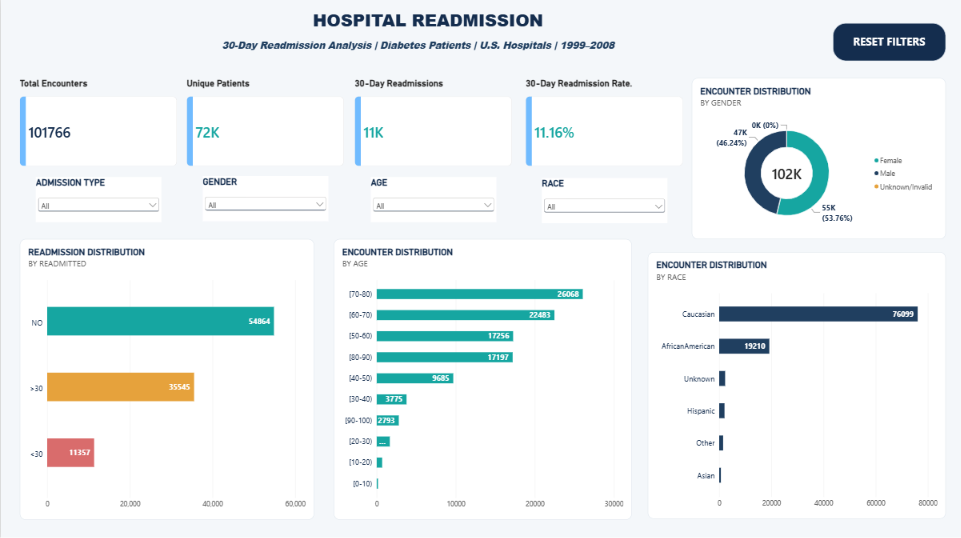

The page's visual inventory and layout, read from the dashboard file:
{"tool":"powerbi","page":{"name":"01. Executive Overview","canvas":[1920,1080],"ordinal":0},"visuals":[{"type":"textbox","title":"HOSPITAL READMISSION ANALYTICS","box":[624,16,670,60],"z":0},{"type":"textbox","title":"30-Day Readmission Analysis | Diabetes Patients | U.S. Hospitals | 1999–2008","box":[442,76,852,24],"z":1000},{"type":"cardVisual","title":"Total Encounters","fields":{"Data":["Measure.Total Encounters"]},"box":[38,156,314,176],"z":2000},{"type":"cardVisual","title":"Unique Patients","fields":{"Data":["Measure.Unique Patients"]},"box":[372,156,314,176],"z":3000},{"type":"cardVisual","title":"30-Day Readmission Rate.","fields":{"Data":["Measure.30-Day Readmission Rate"]},"box":[1050,156,314,176],"z":4000},{"type":"cardVisual","title":"30-Day Readmissions","fields":{"Data":["Measure.30-Day Readmissions"]},"box":[708,156,314,176],"z":5000},{"type":"clusteredBarChart","title":"READMISSION DISTRIBUTION","fields":{"Category":["Fact_Encounters.readmitted"],"Y":["CountNonNull(Fact_Encounters.encounter_id)"]},"box":[38.7,478.5,589,561.4],"z":6000},{"type":"clusteredBarChart","title":"ENCOUNTER DISTRIBUTION ","fields":{"Category":["Fact_Encounters.age"],"Y":["Measure.Total Encounters"]},"box":[666.3,478.5,596.3,561.4],"z":7000},{"type":"donutChart","title":"ENCOUNTER DISTRIBUTION ","fields":{"Category":["Fact_Encounters.gender"],"Y":["Measure.Total Encounters"]},"box":[1382,156,508,322],"z":8000},{"type":"clusteredBarChart","title":"ENCOUNTER DISTRIBUTION","fields":{"Category":["Fact_Encounters.race"],"Y":["Measure.Total Encounters"]},"box":[1293.9,504.3,596.3,533.7],"z":9000},{"type":"slicer","title":"ADMISSION TYPE","fields":{"Values":["Dim_Admission_Type.description"]},"box":[70,354,251.4,90],"z":10000},{"type":"slicer","title":"GENDER","fields":{"Values":["Fact_Encounters.gender"]},"box":[404,352,251.4,90],"z":11000},{"type":"slicer","title":"AGE","fields":{"Values":["Fact_Encounters.age"]},"box":[740,354,251.4,90],"z":12000},{"type":"slicer","title":"RACE","fields":{"Values":["Fact_Encounters.race"]},"box":[1082,356,251.4,90],"z":13000},{"type":"actionButton","title":"RESET FILTERS","box":[1664,46,226,76],"z":14000}]}

Visuals, with their boxes in screenshot pixels (x1, y1, x2, y2), scaled from the page's 1920x1080 canvas onto the 961x538 screenshot:
"HOSPITAL READMISSION ANALYTICS" textbox: locate(312, 8, 648, 38)
"30-Day Readmission Analysis | Diabetes Patients | U.S. Hospitals | 1999–2008" textbox: locate(221, 38, 648, 50)
"Total Encounters" cardVisual: locate(19, 78, 176, 165)
"Unique Patients" cardVisual: locate(186, 78, 343, 165)
"30-Day Readmission Rate." cardVisual: locate(526, 78, 683, 165)
"30-Day Readmissions" cardVisual: locate(354, 78, 512, 165)
"READMISSION DISTRIBUTION" clusteredBarChart: locate(19, 238, 314, 518)
"ENCOUNTER DISTRIBUTION " clusteredBarChart: locate(333, 238, 632, 518)
"ENCOUNTER DISTRIBUTION " donutChart: locate(692, 78, 946, 238)
"ENCOUNTER DISTRIBUTION" clusteredBarChart: locate(648, 251, 946, 517)
"ADMISSION TYPE" slicer: locate(35, 176, 161, 221)
"GENDER" slicer: locate(202, 175, 328, 220)
"AGE" slicer: locate(370, 176, 496, 221)
"RACE" slicer: locate(542, 177, 667, 222)
"RESET FILTERS" actionButton: locate(833, 23, 946, 61)
